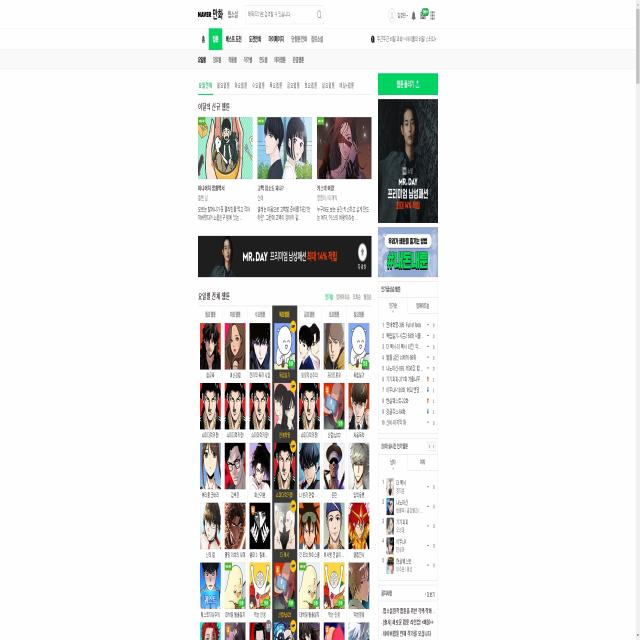menu-bar: (387, 4, 438, 27)
search: (244, 2, 324, 26)
side-panel: (376, 70, 440, 640)
tab-bar: (197, 77, 356, 94), (195, 48, 307, 69), (198, 30, 326, 47)
